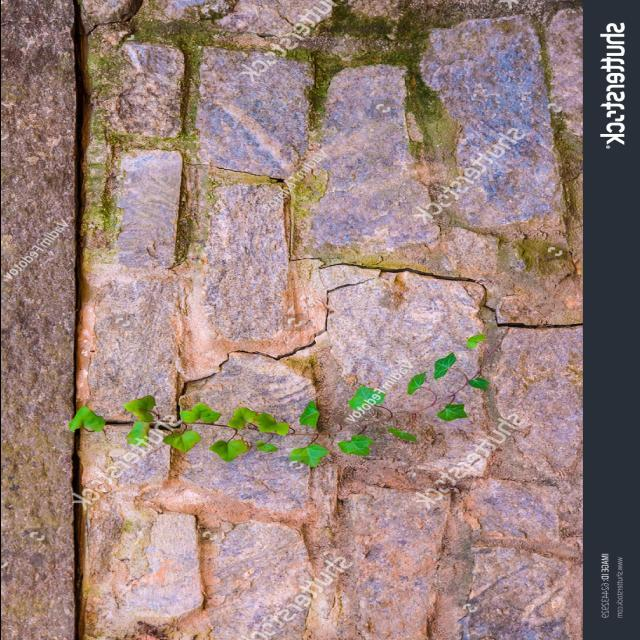Crack: (64, 0, 583, 639)
